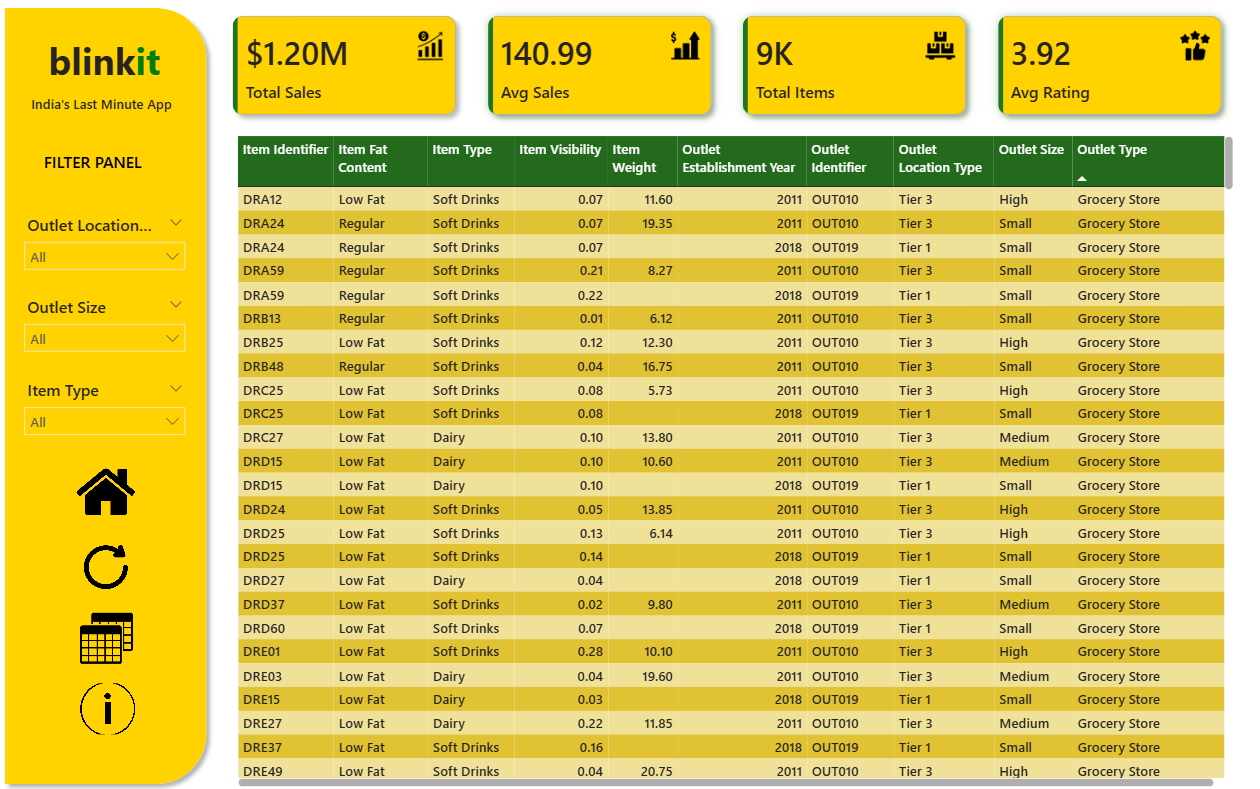

What the dashboard file says about the page in this screenshot:
{"tool":"powerbi","page":{"name":"Table","canvas":[1280,800],"ordinal":1},"visuals":[{"type":"group","id":"g1","title":"Group 2","box":[0,0,221.5,800.3],"z":0},{"type":"shape","box":[0,0,221.1,800.2],"z":0,"group":"g1"},{"type":"textbox","box":[31,91.5,190.5,42.8],"z":1000,"group":"g1"},{"type":"actionButton","box":[81.2,471,59.1,51.7],"z":1000},{"type":"textbox","box":[47.3,32.5,131.4,59.1],"z":2000,"group":"g1"},{"type":"actionButton","box":[81.2,546.3,59.1,53.2],"z":2000},{"type":"actionButton","box":[81.2,618.7,60.5,51.7],"z":3000},{"type":"actionButton","box":[82.7,689.6,60.5,51.7],"z":4000},{"type":"cardVisual","fields":{"Data":["BlinkIT Grocery Data.Total Sales","BlinkIT Grocery Data.Avg Sales","BlinkIT Grocery Data.Total Items","BlinkIT Grocery Data.Avg Rating"]},"box":[221.5,0,1030.7,134.4],"z":5000},{"type":"tableEx","fields":{"Values":["BlinkIT Grocery Data.Item Identifier","BlinkIT Grocery Data.Item Fat Content","BlinkIT Grocery Data.Item Type","Sum(BlinkIT Grocery Data.Item Visibility)","Sum(BlinkIT Grocery Data.Item Weight)","Sum(BlinkIT Grocery Data.Outlet Establishment Year)","BlinkIT Grocery Data.Outlet Identifier","BlinkIT Grocery Data.Outlet Location Type","BlinkIT Grocery Data.Outlet Size","BlinkIT Grocery Data.Outlet Type"]},"box":[237.4,133.8,1014.3,666.1],"z":6000},{"type":"slicer","fields":{"Values":["BlinkIT Grocery Data.Outlet Location Type"]},"box":[19.2,211.2,181.6,67.9],"z":10000,"group":"g1"},{"type":"slicer","fields":{"Values":["BlinkIT Grocery Data.Outlet Size"]},"box":[19.2,293.8,181.6,67.9],"z":11000,"group":"g1"},{"type":"slicer","fields":{"Values":["BlinkIT Grocery Data.Item Type"]},"box":[19.2,378,181.6,66.4],"z":12000,"group":"g1"},{"type":"textbox","box":[42.8,147.7,134.4,42.8],"z":13000,"group":"g1"}]}

Visuals, with their boxes in screenshot pixels (x1, y1, x2, y2), scaled from the page's 1280x800 canvas onto the 1260x789 screenshot:
"Group 2" group: locate(0, 0, 218, 788)
shape: locate(0, 0, 218, 788)
textbox: locate(31, 90, 218, 132)
actionButton: locate(80, 465, 138, 516)
textbox: locate(47, 32, 176, 90)
actionButton: locate(80, 539, 138, 591)
actionButton: locate(80, 610, 139, 661)
actionButton: locate(81, 680, 141, 731)
cardVisual - BlinkIT Grocery Data.Total Sales x BlinkIT Grocery Data.Avg Sales: locate(218, 0, 1233, 133)
tableEx - BlinkIT Grocery Data.Item Identifier x BlinkIT Grocery Data.Item Fat Content: locate(234, 132, 1232, 788)
slicer - BlinkIT Grocery Data.Outlet Location Type: locate(19, 208, 198, 275)
slicer - BlinkIT Grocery Data.Outlet Size: locate(19, 290, 198, 357)
slicer - BlinkIT Grocery Data.Item Type: locate(19, 373, 198, 438)
textbox: locate(42, 146, 174, 188)
